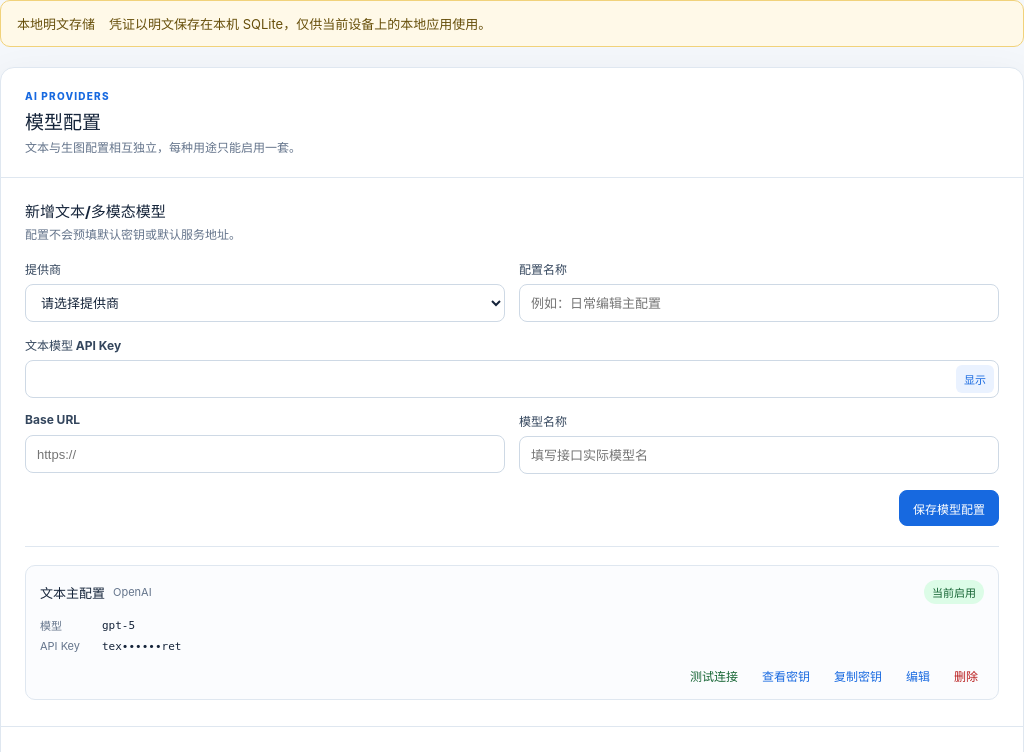
Test case: settings page › tests the active model connection from the configuration list
The image size is (1024, 752).
Click the button with aria-label "测试 文本主配置 连接" at (714, 676), box [684,666,744,685]
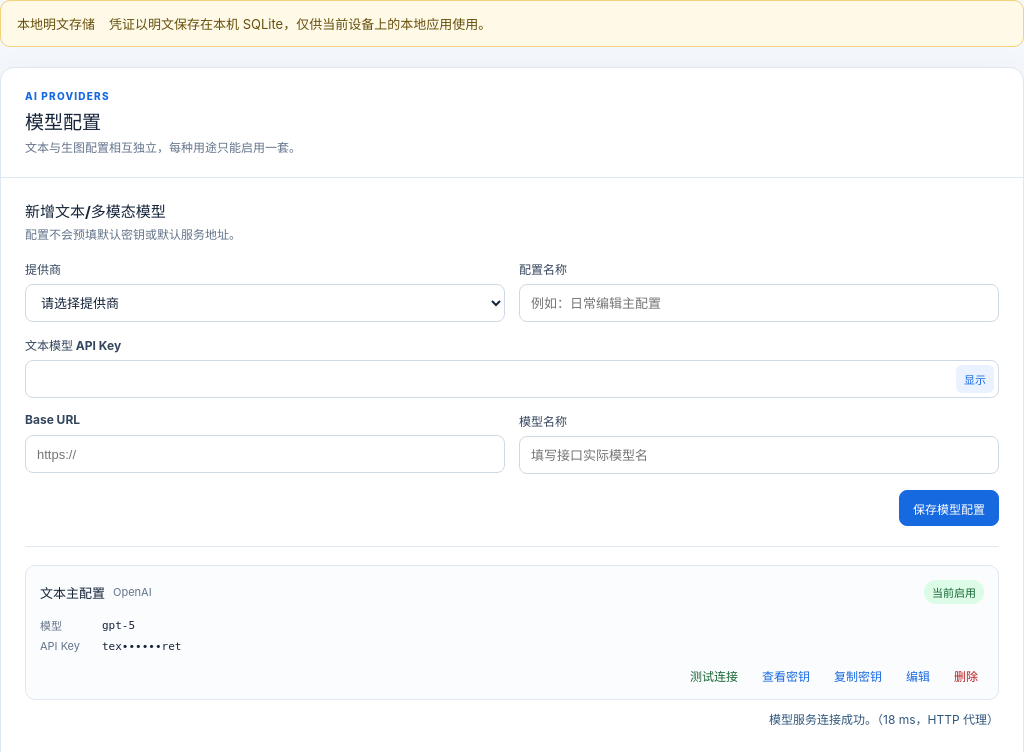
Now the text "模型服务连接成功。（18 ms，HTTP 代理）" is shown, box [769,712,999,727]
